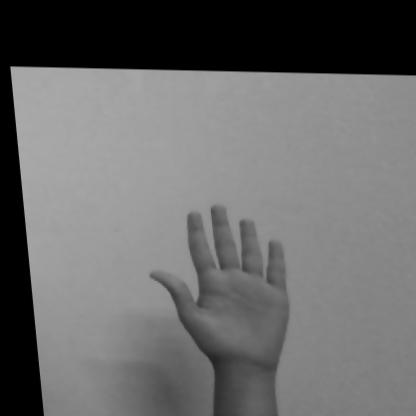palm: (122, 201, 340, 400)
